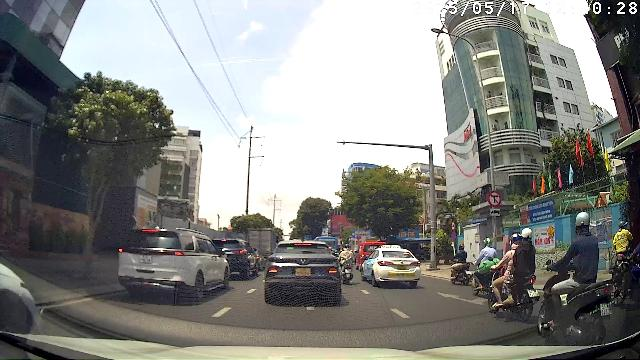137-cam-re-trai-va-re-phai: (488, 190, 502, 208)
